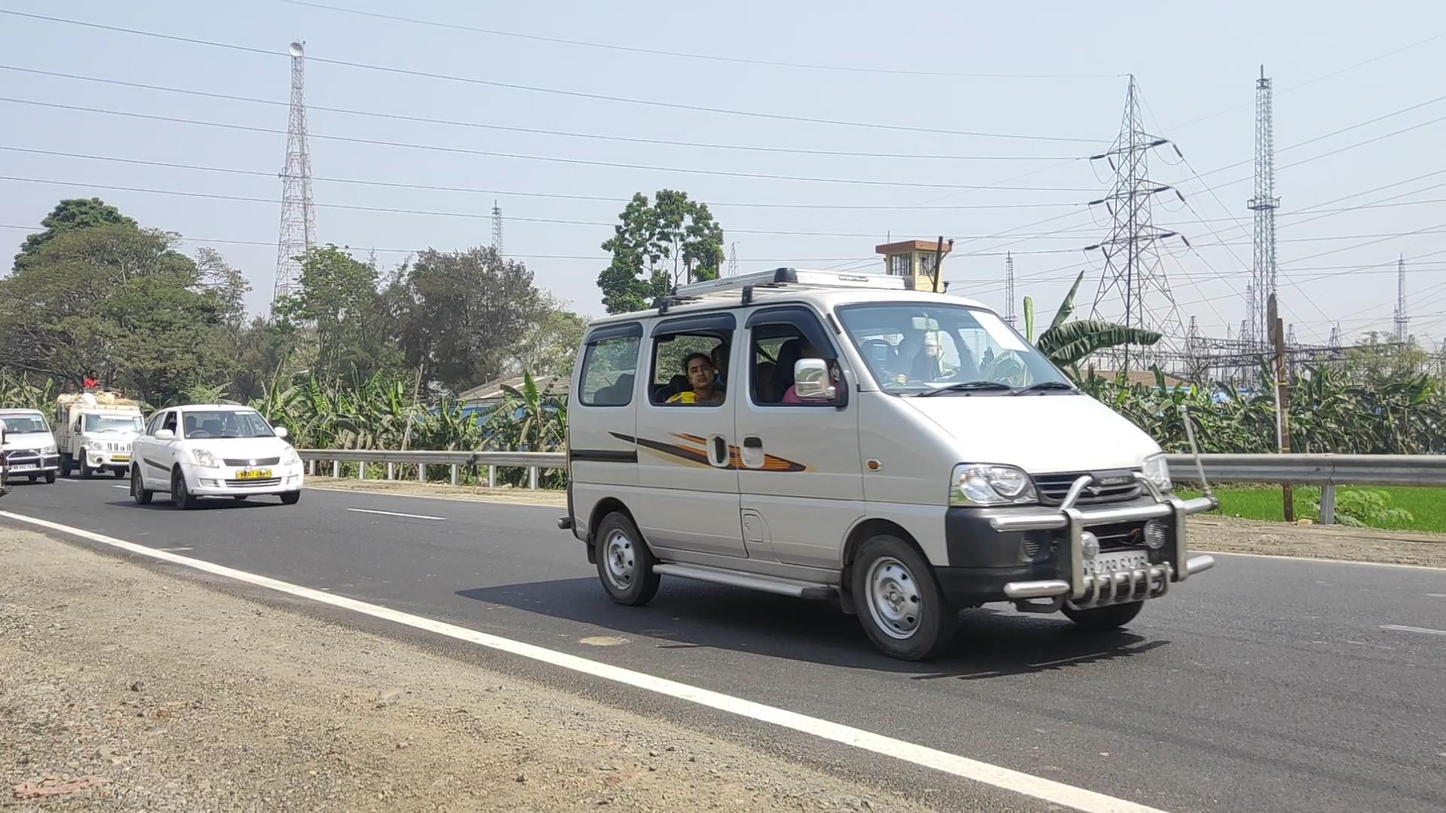car: (130, 403, 304, 511)
van: (557, 267, 1219, 662), (55, 370, 148, 480), (1, 408, 60, 486)
